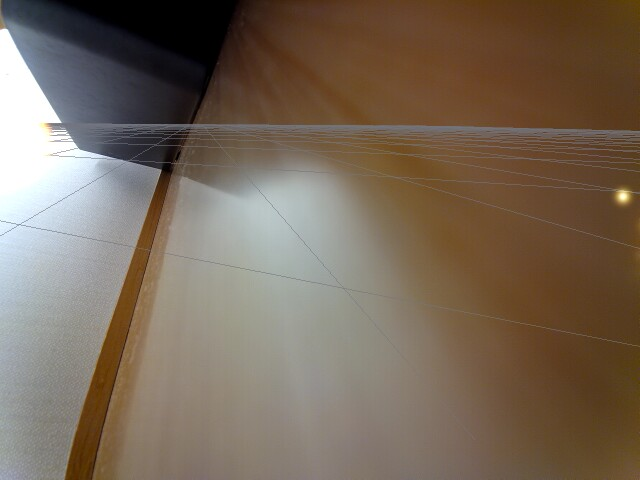firebig: (0, 68, 64, 223)
